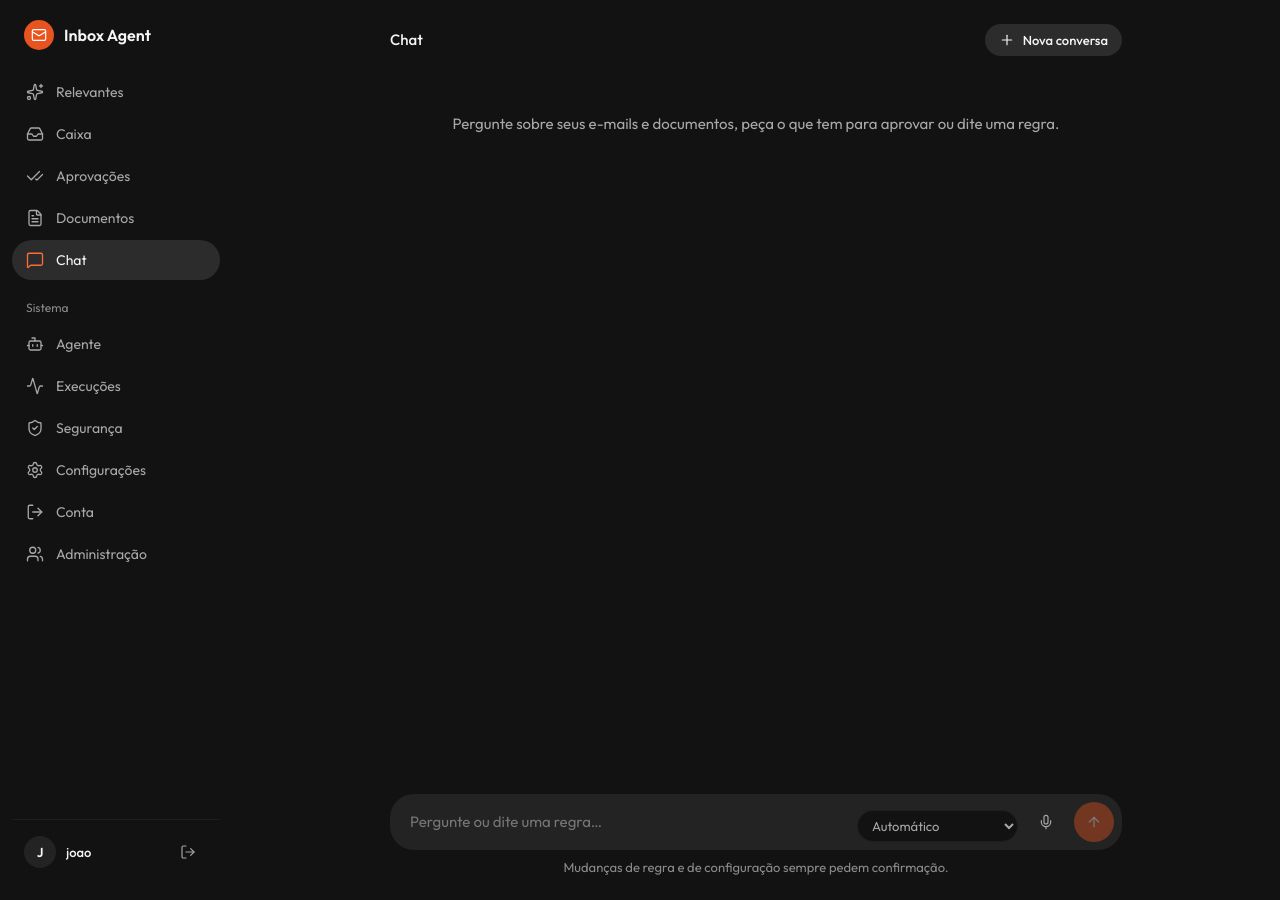
Test case: sends_text_and_renders_streamed_progress_then_answer
This screenshot has width=1280, height=900.
In the text box named "Mensagem": (630, 822) [410,811,849,833], type "quais boletos tenho?"
Then press Enter
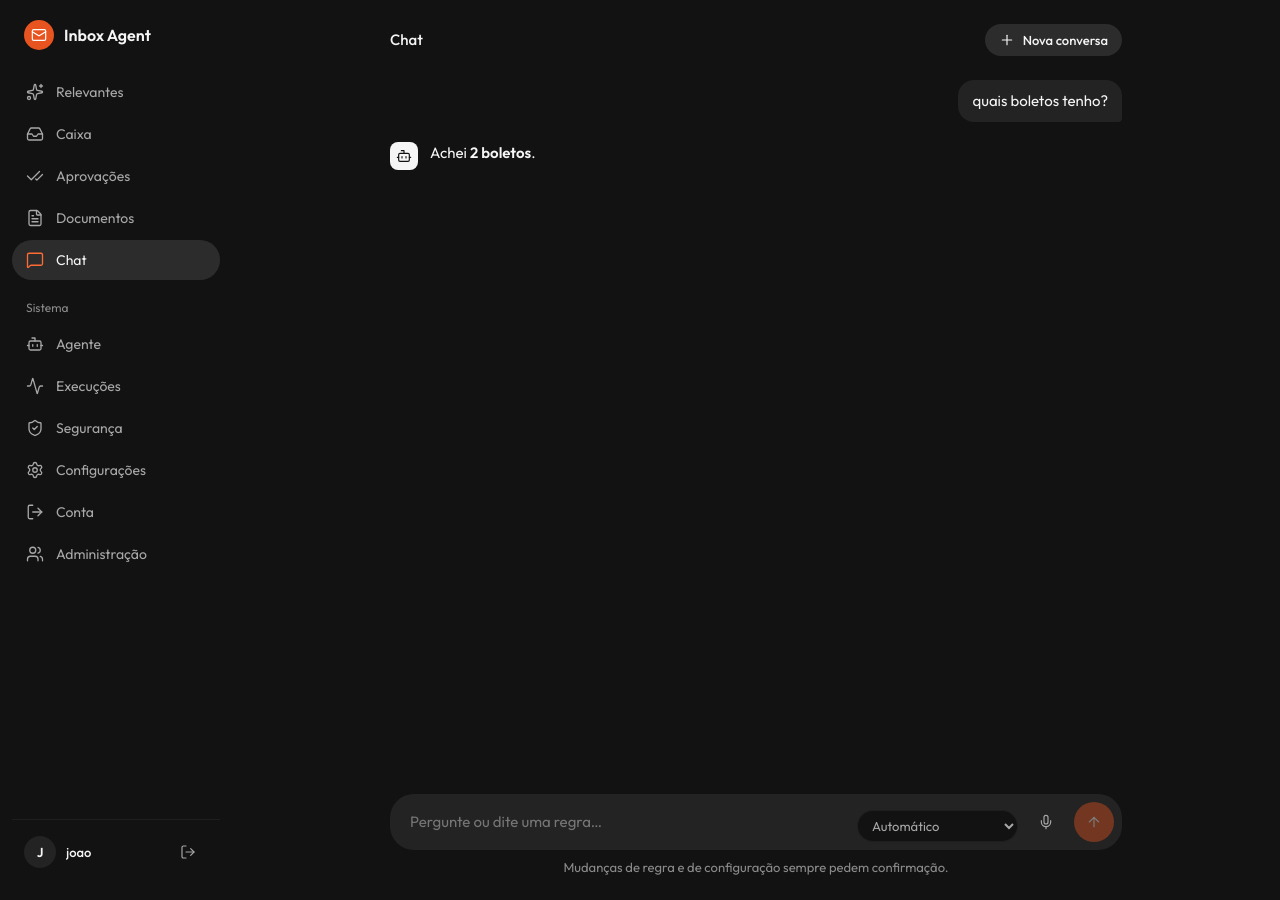
Result: the text "2 boletos" is shown at [470,143,531,162]
Result: the text "quais boletos tenho?" is shown at [972,90,1108,112]
